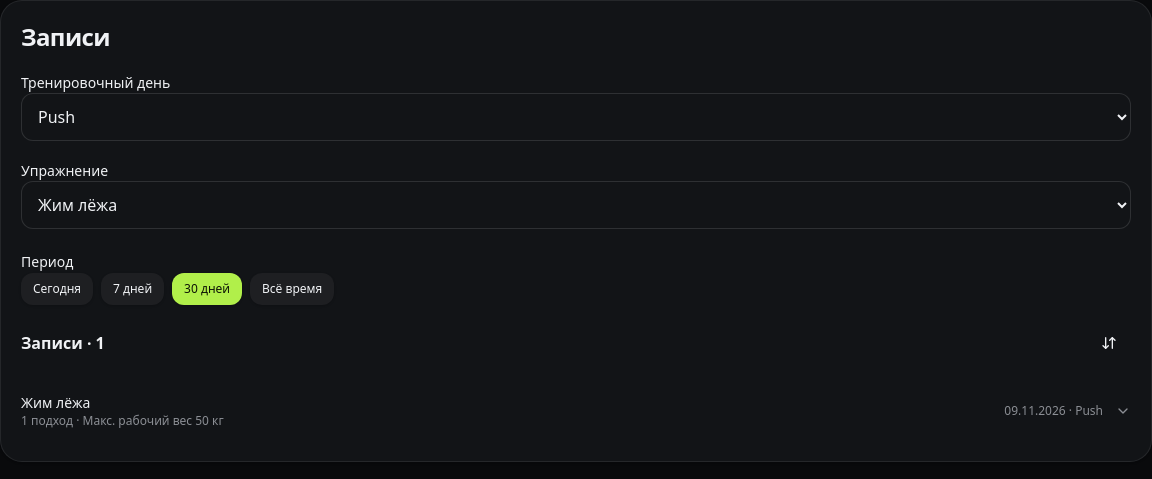
Test case: keeps different day UUIDs separate even when their names match
Expected: the list item shows "50 кг", [21,385,1131,437]
Select "Push" in the dropdown named "День записей" at (576, 117), box [21,93,1131,141]
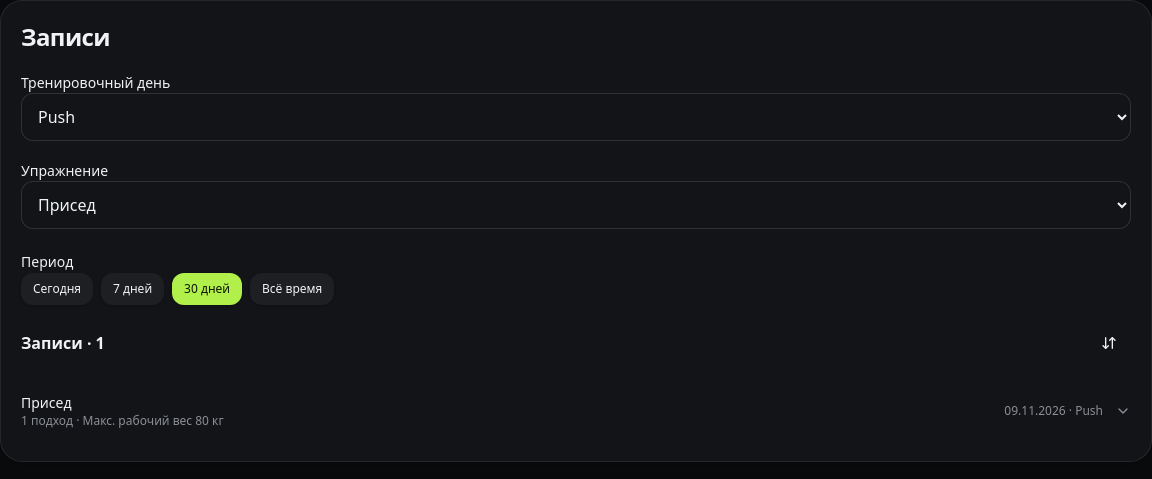
Now the list item shows "80 кг", box [21,385,1131,437]
